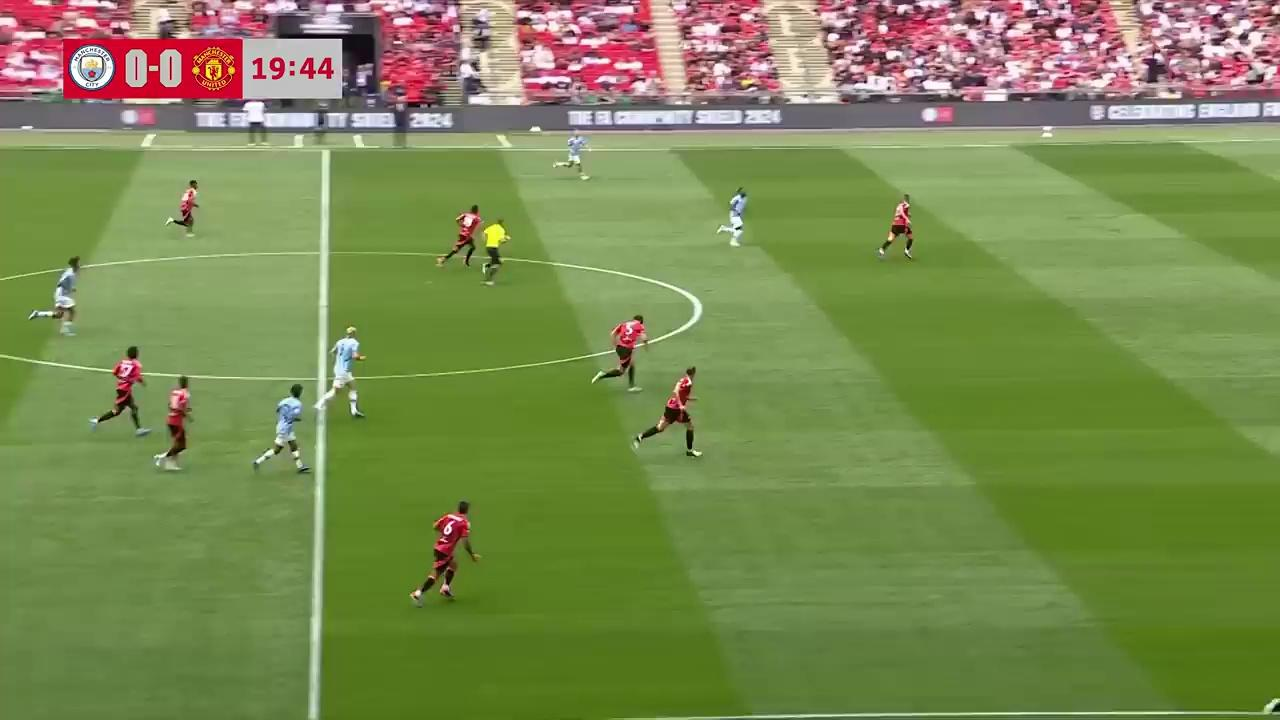ball: (581, 171, 591, 187)
player: (409, 500, 481, 605), (636, 366, 702, 458), (252, 384, 310, 475), (92, 345, 148, 436), (596, 312, 651, 393), (321, 324, 366, 419), (153, 375, 194, 470), (34, 256, 83, 335), (438, 205, 482, 267), (877, 194, 915, 260), (552, 128, 590, 179), (166, 179, 200, 236), (717, 186, 747, 246)
referee: (481, 218, 510, 286)
